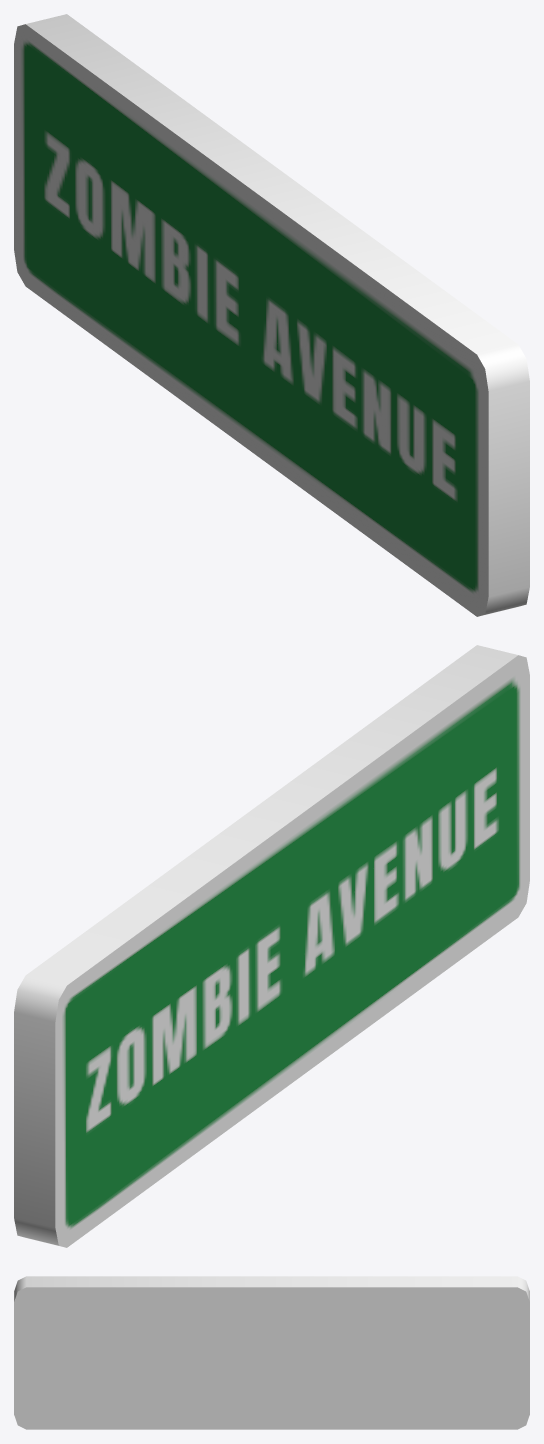
File: Sign_14.glb
3 renders of one model, top to bottom at view 1: azimuth 30°, elevation 25°; view 2: azimuth 150°, elevation 25°; view 3: azimuth 270°, elevation 25°, orthographic. The views are drawn at different scales.
Visible parts, largest first — view 1: Sign_14; view 2: Sign_14; view 3: Sign_14.
Boxes of the visible parts, <box> form: Sign_14: <box>14,14,529,616</box>; Sign_14: <box>14,645,529,1247</box>; Sign_14: <box>14,1276,529,1429</box>.
Bounding box in the file's own units: 0.1316 × 0.7966 × 2.61.
1 material, 1 textured.
